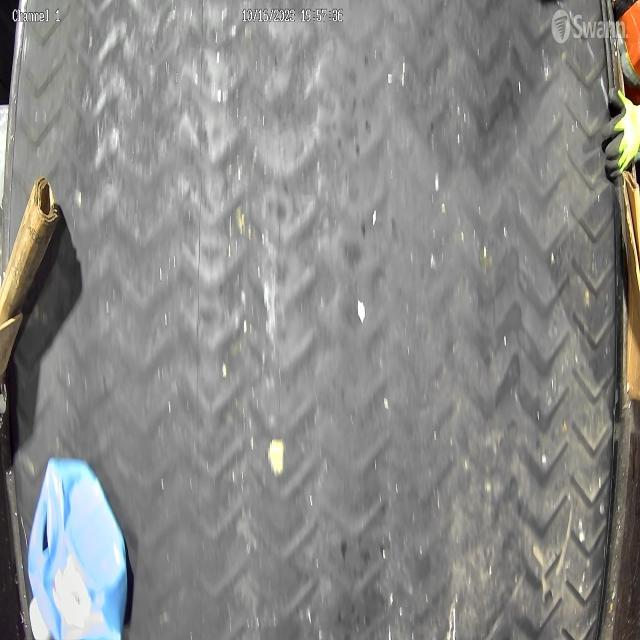non_white_jug: (20, 450, 134, 640)
